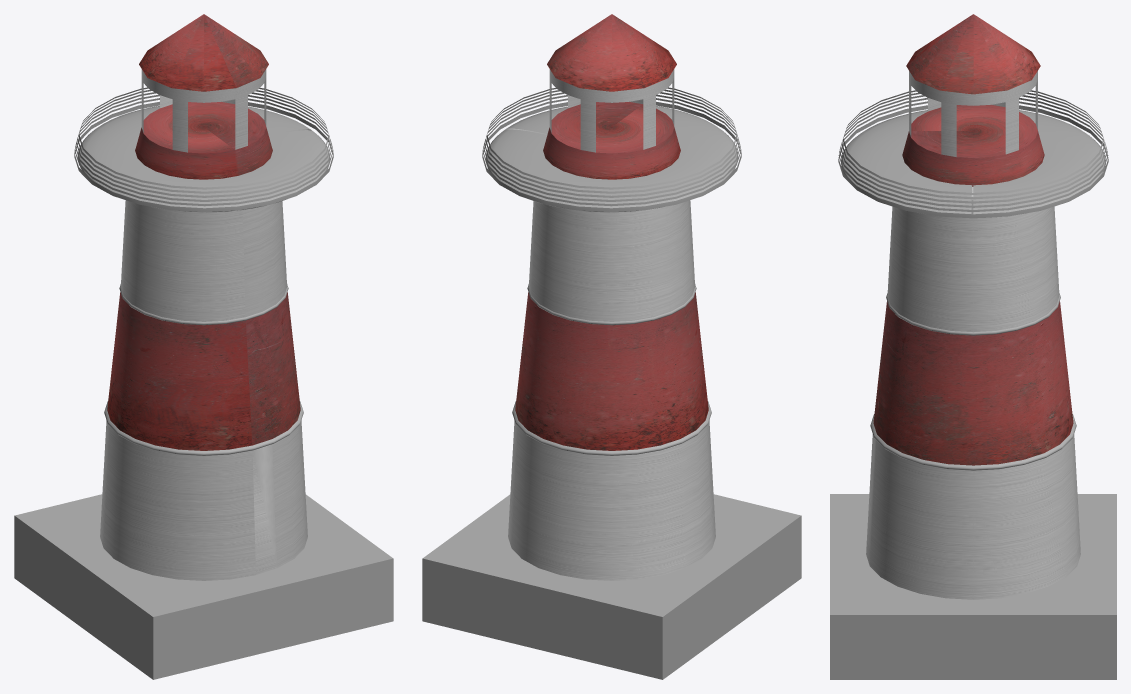
Rendered from lighthouse.obj.
The picture shows the model from 3 angles, left to right: view 1: azimuth 30°, elevation 25°; view 2: azimuth 150°, elevation 25°; view 3: azimuth 270°, elevation 25°; orthographic projection. The views are drawn at different scales.
Visible parts, largest first — view 1: Box, Cylinder, Cylinder1, Cylinder2, Torus, Cylinder3, Torus1, Cone, Cylinder4, Cylinder5, Torus2, Torus3; view 2: Box, Cylinder, Cylinder1, Cylinder2, Torus, Cylinder3, Torus1, Cone, Cylinder4, Cylinder5, Torus2, Torus3; view 3: Box, Cylinder, Cylinder1, Cylinder2, Torus, Cylinder3, Torus1, Cone, Cylinder4, Cylinder5, Torus2, Torus3.
Part boxes in pixels (x1,y1,x2,y2): Box: (14,494,393,679); Cylinder: (100,420,307,580); Cylinder1: (107,292,300,450); Cylinder2: (120,200,287,321); Torus: (77,106,330,212); Cylinder3: (135,102,272,179); Torus1: (74,87,333,212); Cone: (139,14,268,91); Cylinder4: (141,77,266,152); Cylinder5: (141,69,266,102); Torus2: (104,401,303,455); Torus3: (119,284,288,325); Box: (422,494,801,679); Cylinder: (508,420,715,580); Cylinder1: (515,292,708,450); Cylinder2: (528,200,695,321); Torus: (485,106,738,212); Cylinder3: (543,102,680,179); Torus1: (482,87,741,212); Cone: (547,14,676,91); Cylinder4: (549,77,674,152); Cylinder5: (549,69,674,102); Torus2: (512,401,711,455); Torus3: (527,284,696,325); Box: (830,494,1116,679); Cylinder: (866,434,1080,599); Cylinder1: (873,301,1073,465); Cylinder2: (887,187,1059,332); Torus: (841,110,1105,217); Cylinder3: (902,104,1044,186); Torus1: (838,90,1108,218); Cone: (906,14,1040,94); Cylinder4: (909,79,1037,156); Cylinder5: (909,71,1037,105); Torus2: (870,414,1076,470); Torus3: (886,293,1060,335).
Size of the model in its own units: 2 by 4.66 by 2.
